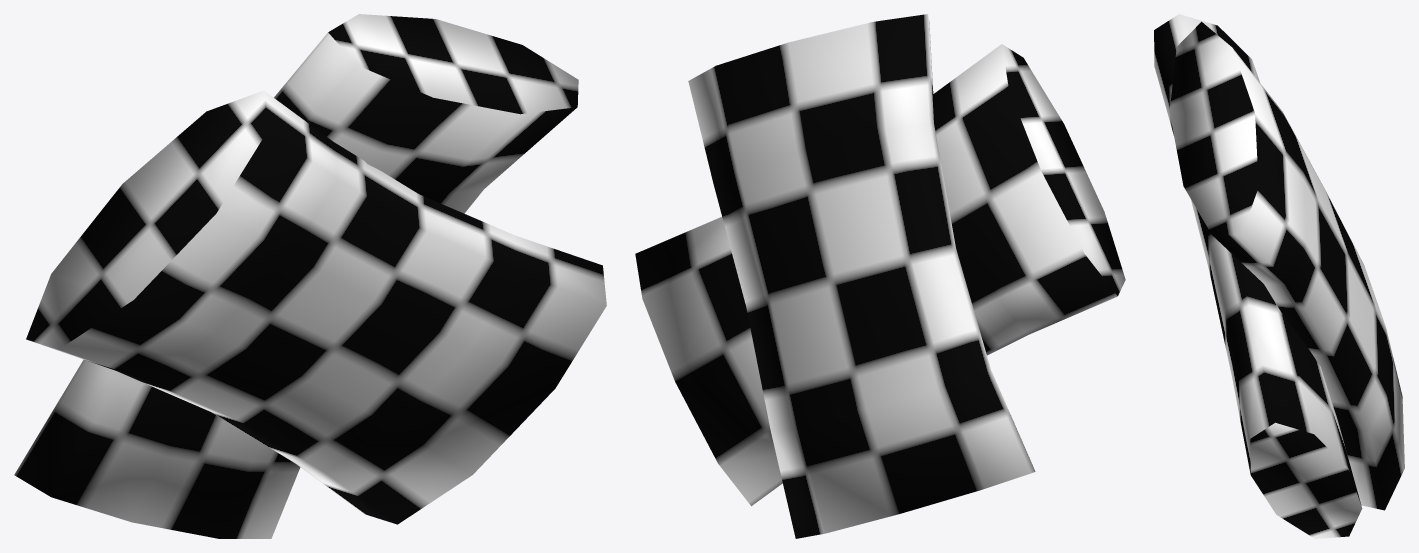
File: initlimt31.dae
The picture shows the model from 3 angles, left to right: view 1: azimuth 30°, elevation 25°; view 2: azimuth 150°, elevation 25°; view 3: azimuth 270°, elevation 25°; orthographic projection. The views are drawn at different scales.
Parts seen in each view (by area): view 1: item; view 2: item; view 3: item.
Part boxes in pixels (x1=…): item: x1=14, y1=14, x2=606, y2=538; item: x1=635, y1=14, x2=1125, y2=538; item: x1=1154, y1=14, x2=1404, y2=538.
Size of the model in its own units: 1.75 by 0.8031 by 1.66.
1 material, 1 textured.
